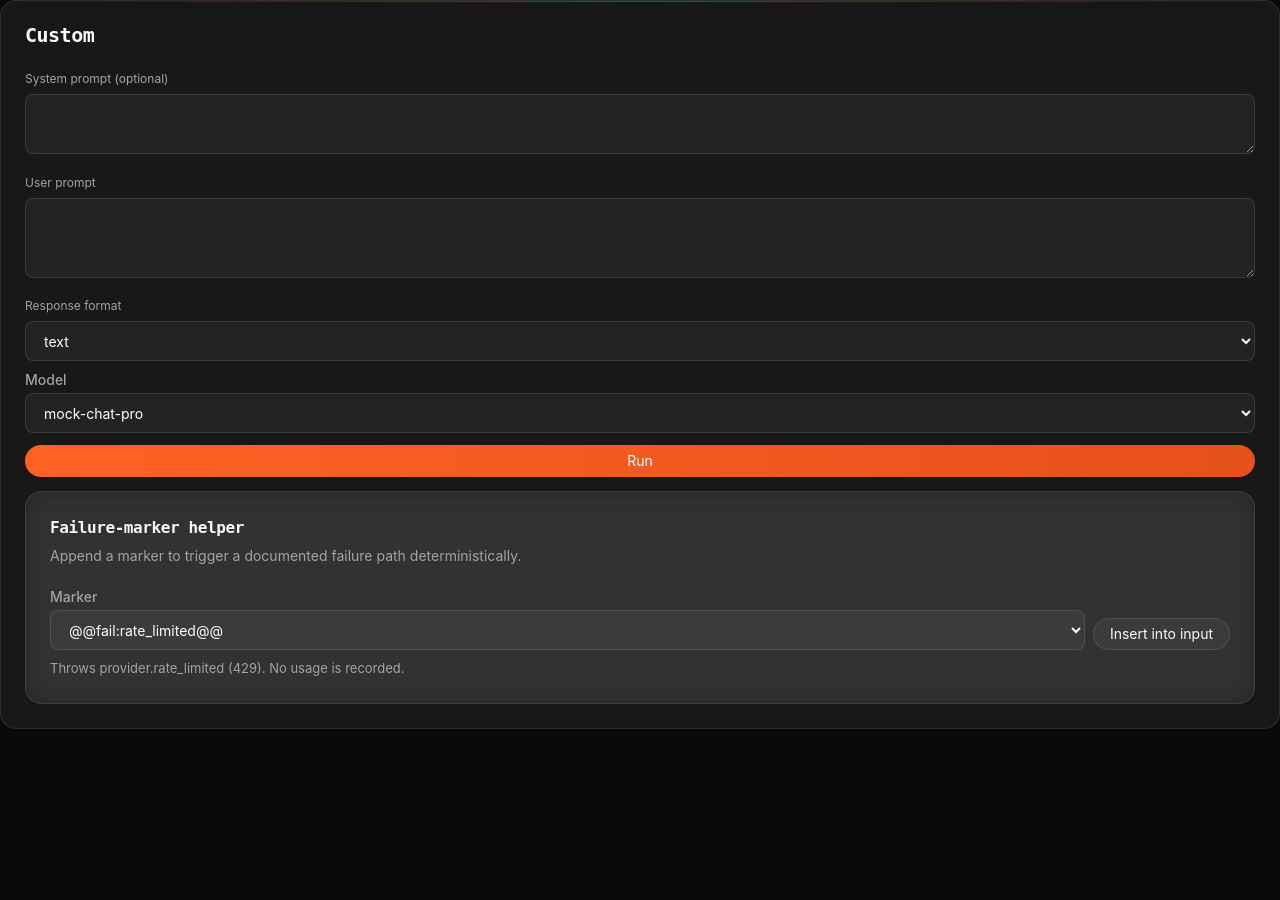
CustomCard › renders the error envelope on a rejection
Type "do the thing" into the text box labelled "User prompt" at (640, 238), box [25,198,1255,278]
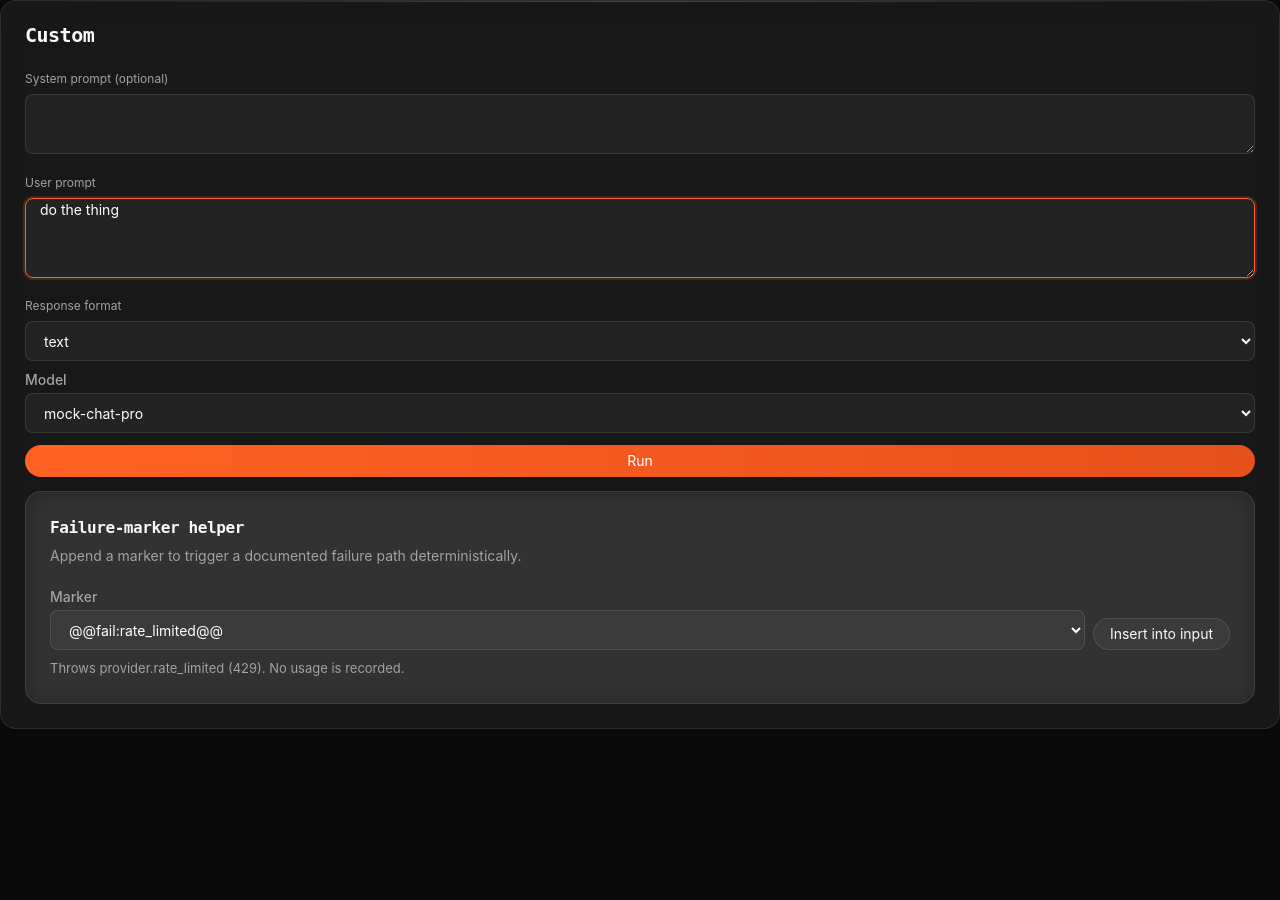
Click the button "Run" at (640, 461), box [25,445,1255,477]
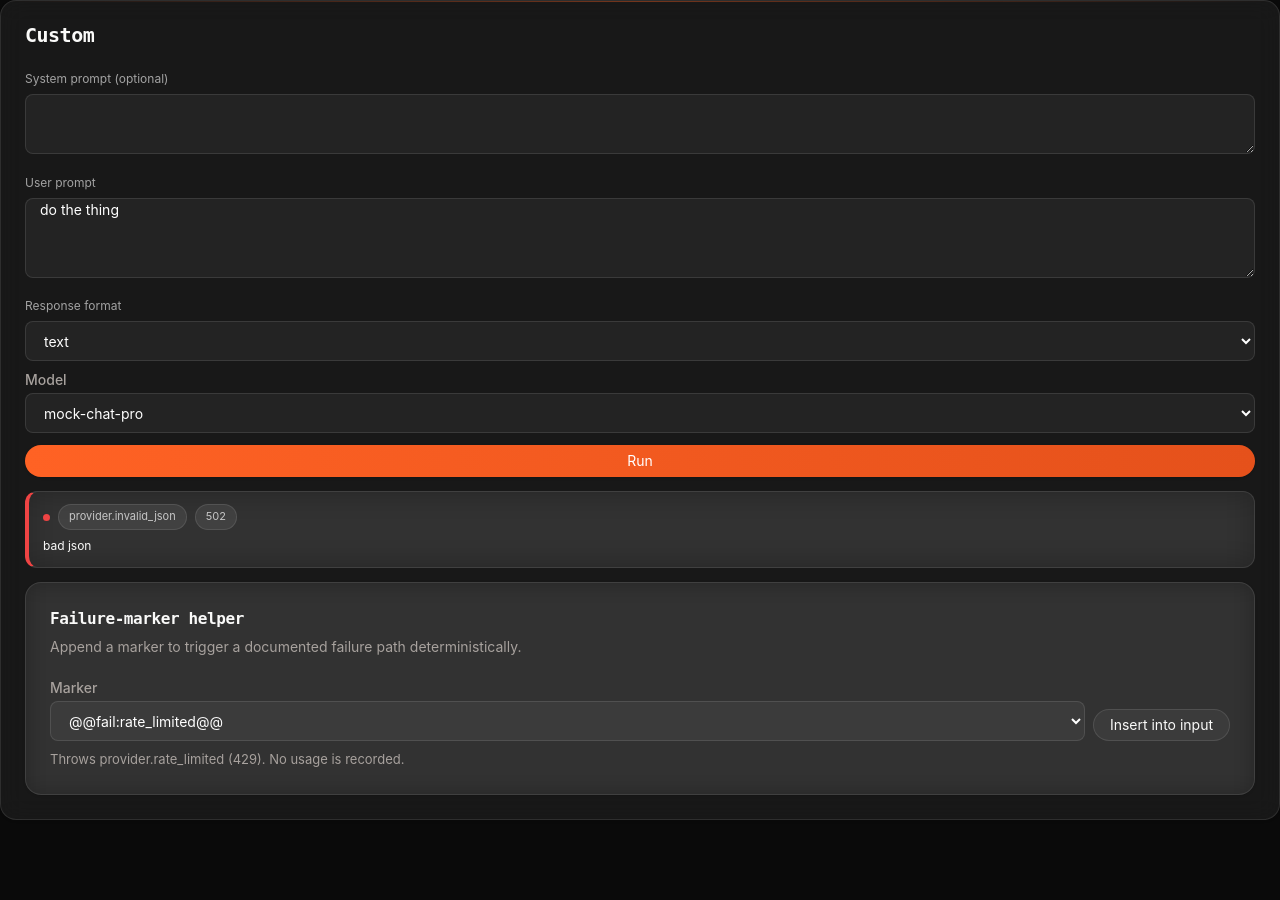
expect the message shows "bad json": met, box [43,538,92,553]
